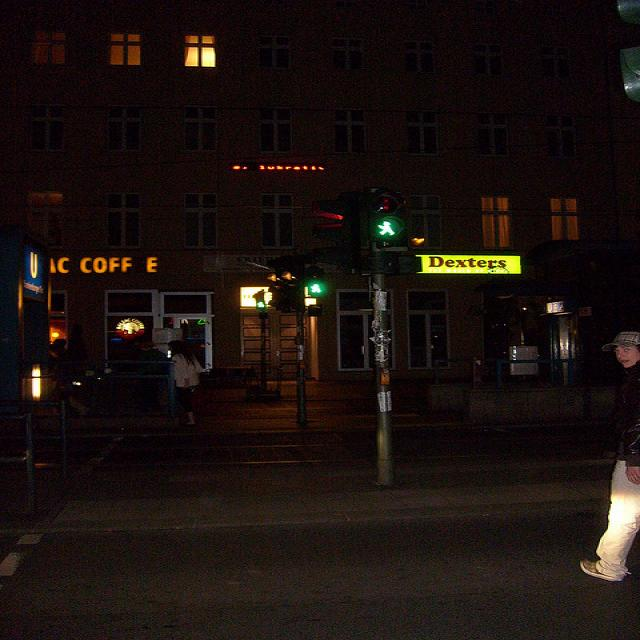People: (575, 311, 639, 640), (43, 319, 121, 433), (156, 317, 223, 424)
